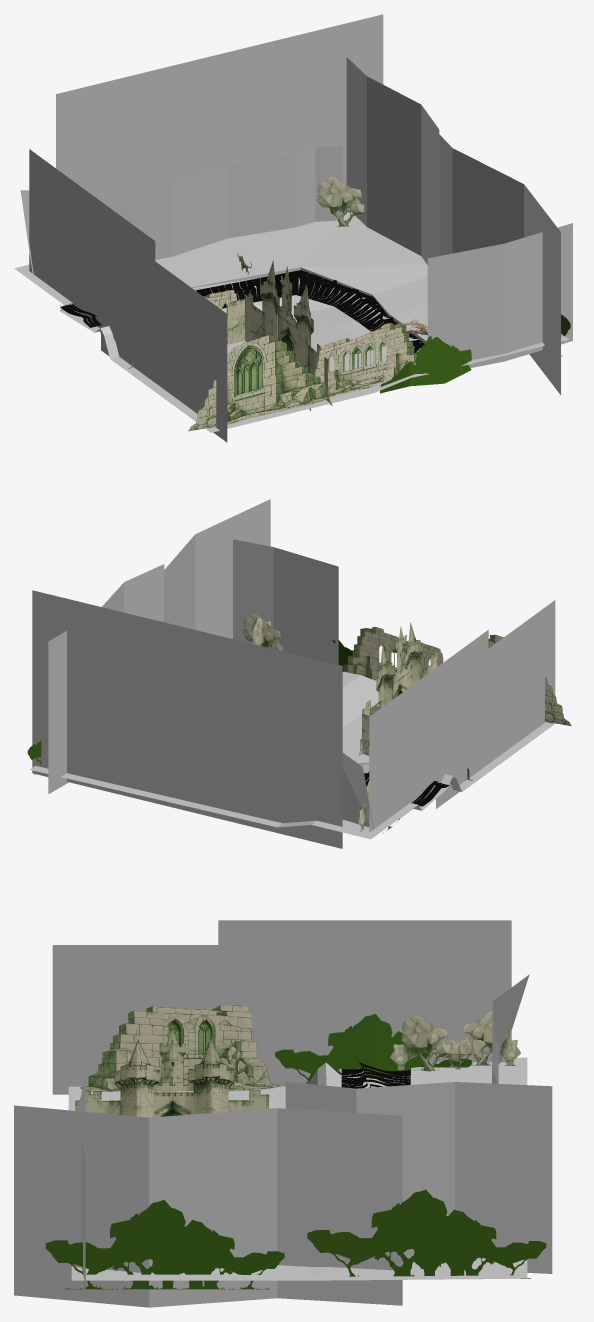
File: 01_ScenaAltura.fbx
3 renders of one model, top to bottom at view 1: azimuth 30°, elevation 25°; view 2: azimuth 150°, elevation 25°; view 3: azimuth 270°, elevation 25°, orthographic. The views are drawn at different scales.
Visible parts, largest first — view 1: WoodsA_03, Ground, WoodsA_01, WoodsB_02, WoodsD_01, WoodsD_02, WoodsE, WoodsA_02, WallsA, WallsB, Trees_backgroundD, facciata.001 (+4 smaller); view 2: WoodsA_03, WoodsA_01, WoodsD_02, WoodsA_02, WoodsE, Ground, WoodsD_01, WallsB, WoodsB_01, facciata.001, SingleTreeB, CastleFront_wall (+1 smaller); view 3: WoodsE, WoodsA_02, WoodsD_01, WoodsA_01, Trees_backgroundB, Trees_backgroundC, Ground, WallsC, Trees_backgroundA, facciata.001, CastleFront_wall, Trees01_B (+5 smaller).
Part boxes in pixels (left/top/right/bottom): WoodsA_03: left=56, top=14, right=383, bottom=191; Ground: left=14, top=212, right=569, bottom=432; WoodsA_01: left=29, top=149, right=155, bottom=369; WoodsB_02: left=133, top=145, right=343, bottom=259; WoodsD_01: left=346, top=57, right=439, bottom=264; WoodsD_02: left=427, top=223, right=572, bottom=367; WoodsE: left=439, top=134, right=560, bottom=394; WoodsA_02: left=101, top=261, right=227, bottom=442; WallsA: left=188, top=335, right=331, bottom=431; WallsB: left=315, top=323, right=416, bottom=396; Trees_backgroundD: left=380, top=336, right=471, bottom=393; facciata.001: left=260, top=261, right=313, bottom=410; WoodsA_03: left=32, top=590, right=342, bottom=848; WoodsA_01: left=369, top=630, right=488, bottom=832; WoodsD_02: left=233, top=539, right=338, bottom=664; WoodsA_02: left=436, top=600, right=555, bottom=808; WoodsE: left=164, top=499, right=270, bottom=638; Ground: left=30, top=671, right=555, bottom=839; WoodsD_01: left=48, top=564, right=164, bottom=794; WallsB: left=343, top=627, right=443, bottom=680; WoodsB_01: left=342, top=753, right=373, bottom=829; facciata.001: left=376, top=622, right=422, bottom=707; SingleTreeB: left=243, top=613, right=283, bottom=651; CastleFront_wall: left=359, top=626, right=437, bottom=756; WoodsE: left=14, top=1105, right=402, bottom=1307; WoodsA_02: left=52, top=945, right=346, bottom=1094; WoodsD_01: left=285, top=1081, right=552, bottom=1273; WoodsA_01: left=218, top=920, right=511, bottom=1062; Trees_backgroundB: left=307, top=1189, right=546, bottom=1278; Trees_backgroundC: left=45, top=1200, right=284, bottom=1289; Ground: left=68, top=1057, right=527, bottom=1280; WallsC: left=80, top=1005, right=279, bottom=1091; Trees_backgroundA: left=275, top=1013, right=472, bottom=1081; facciata.001: left=114, top=1037, right=234, bottom=1117; CastleFront_wall: left=75, top=1028, right=269, bottom=1114; Trees01_B: left=401, top=1014, right=450, bottom=1071.
Bounding box in the file's own units: 6101 × 3334 × 6482.
